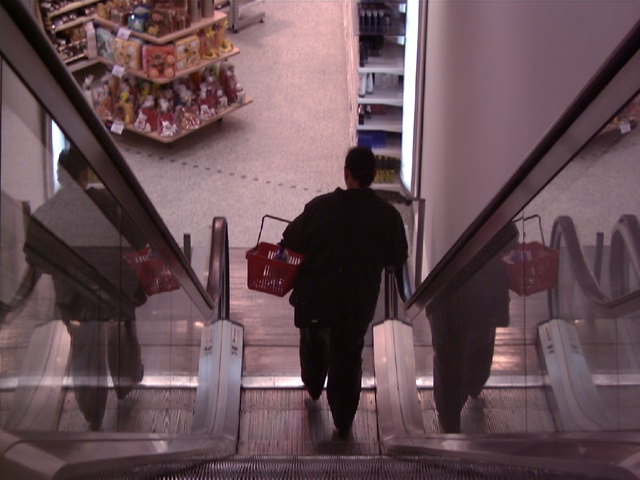person: (278, 137, 406, 431)
